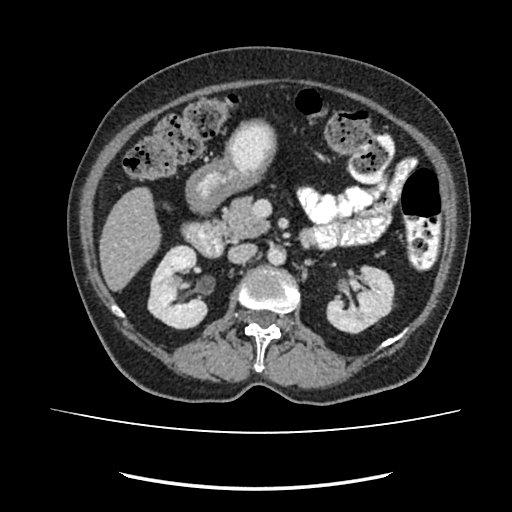aorta: (260, 238, 290, 269)
